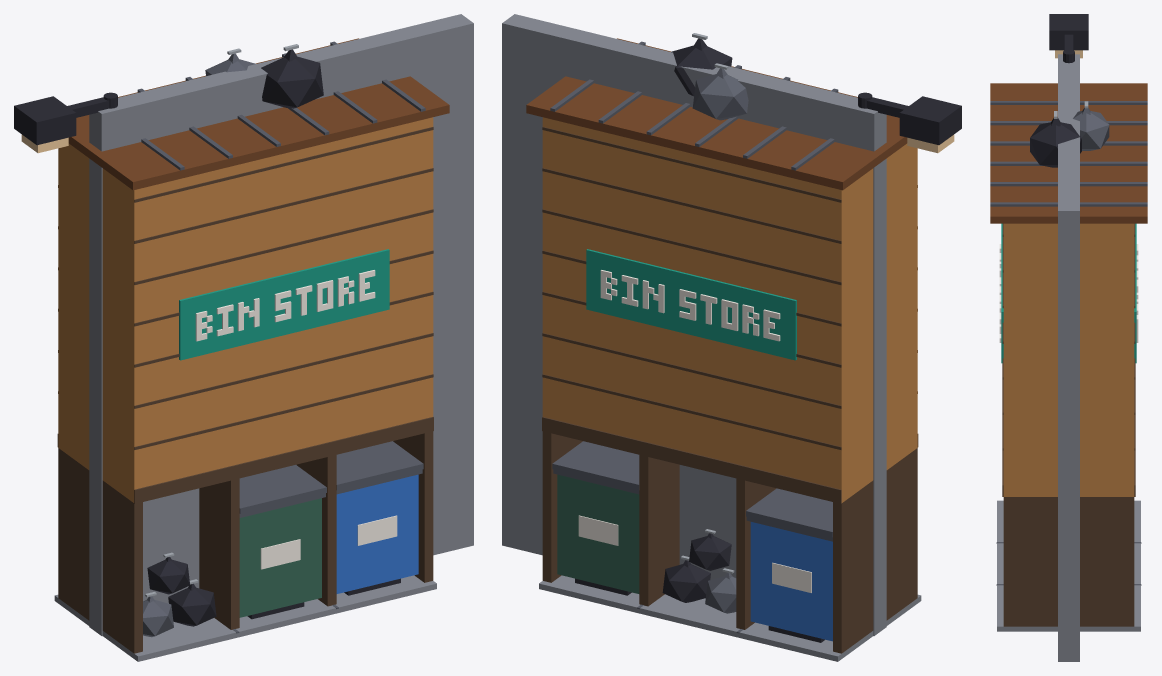
File: CatCafe_Alley_Blocker_BinsShort.glb
3 renders of one model, left to right at view 1: azimuth 30°, elevation 25°; view 2: azimuth 150°, elevation 25°; view 3: azimuth 270°, elevation 25°, orthographic. The views are drawn at different scales.
Parts seen in each view (by area): view 1: CatCafe_Alley_Blocker_BinsShort, CatCafe_Alley_Blocker_BinsShort_Barrier; view 2: CatCafe_Alley_Blocker_BinsShort, CatCafe_Alley_Blocker_BinsShort_Barrier; view 3: CatCafe_Alley_Blocker_BinsShort, CatCafe_Alley_Blocker_BinsShort_Barrier.
Boxes of the visible parts, left/top/right/bottom form: CatCafe_Alley_Blocker_BinsShort: left=14, top=38, right=449, bottom=661; CatCafe_Alley_Blocker_BinsShort_Barrier: left=89, top=14, right=473, bottom=635; CatCafe_Alley_Blocker_BinsShort: left=526, top=33, right=961, bottom=661; CatCafe_Alley_Blocker_BinsShort_Barrier: left=502, top=14, right=886, bottom=635; CatCafe_Alley_Blocker_BinsShort: left=990, top=14, right=1147, bottom=631; CatCafe_Alley_Blocker_BinsShort_Barrier: left=1058, top=54, right=1079, bottom=661.
Bounding box in the file's own units: 10.1 × 11.9 × 3.6.
Materials: 1 (1 with a texture image).
